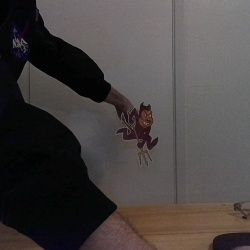sparky: (114, 101, 159, 166)
